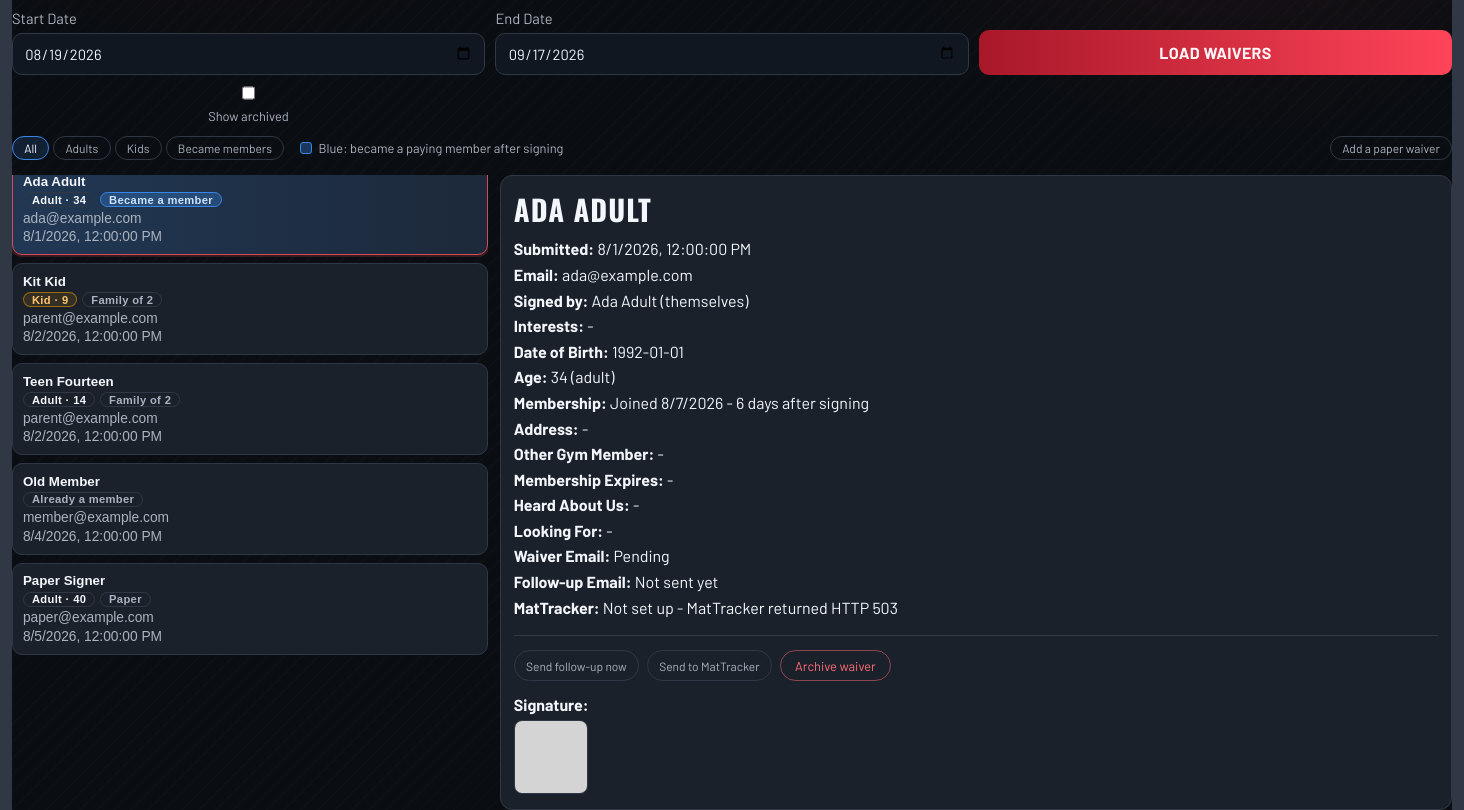
Test: WaiverAdmin list › marks waivers signed on paper and shows the photo of the page
(page scrolled)
Expected: the text "Paper" is shown, [100, 592, 151, 607]
Click the button "Paper Signer". click: coordinates (64, 581)
box: [12, 563, 488, 655]
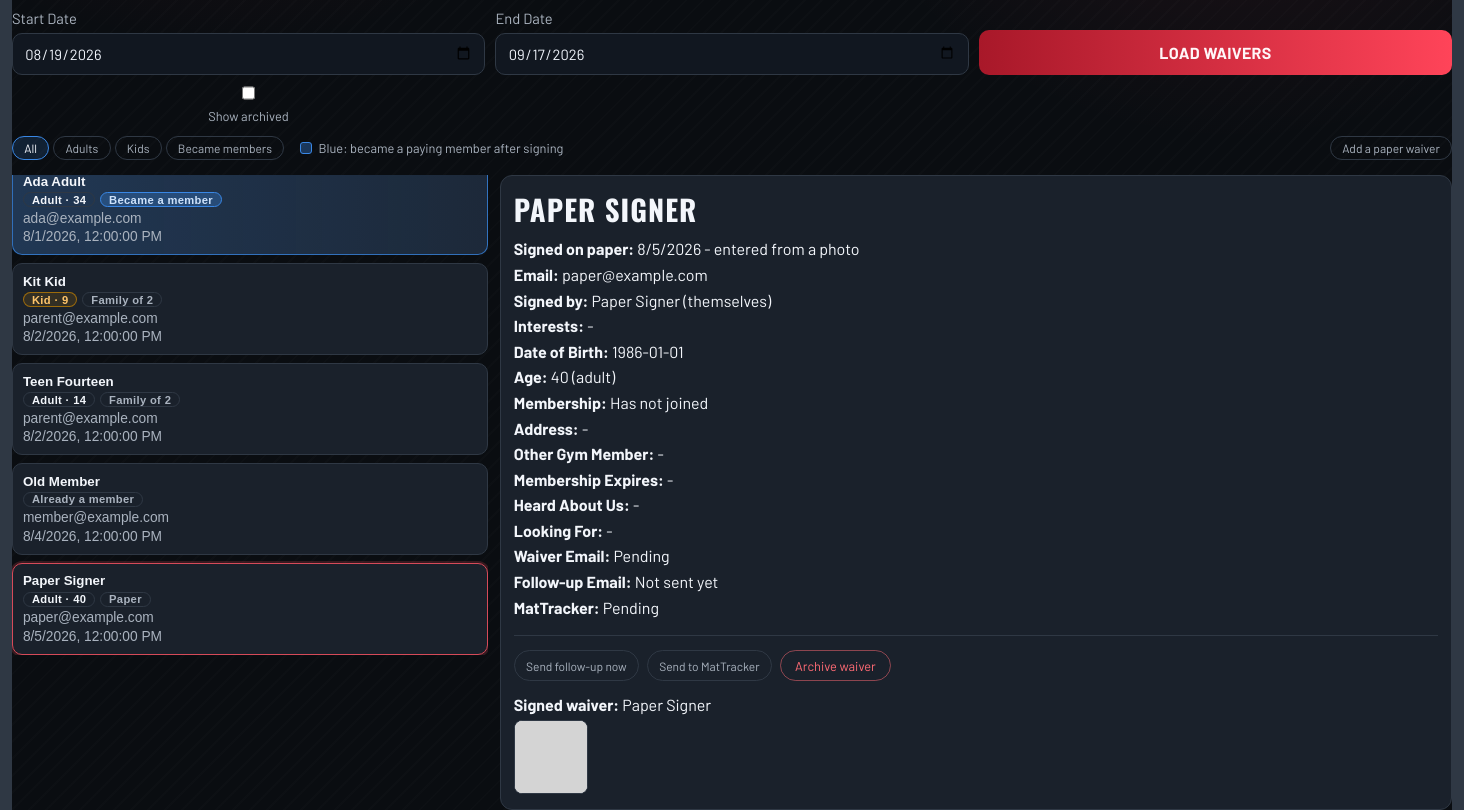
Now the text "Signed on paper: 8/5/2026 - entered from a photo" is shown, box [514, 240, 860, 258]
